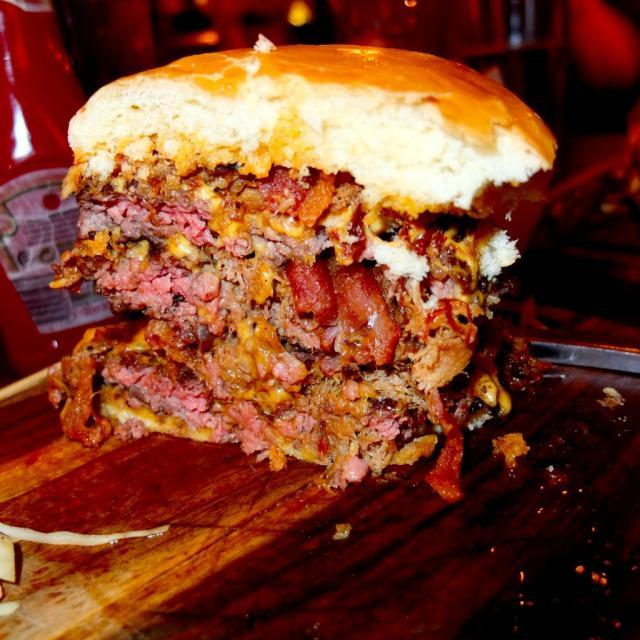Hamburger: (51, 33, 560, 503)
